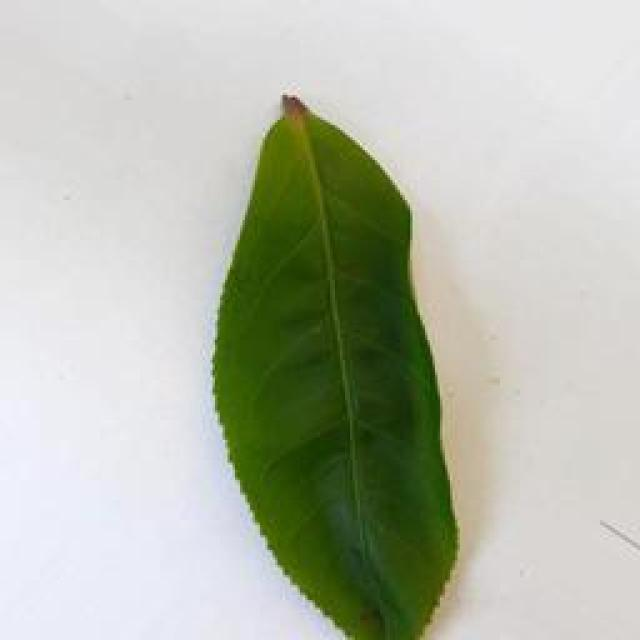Healthy: (214, 75, 465, 640)
